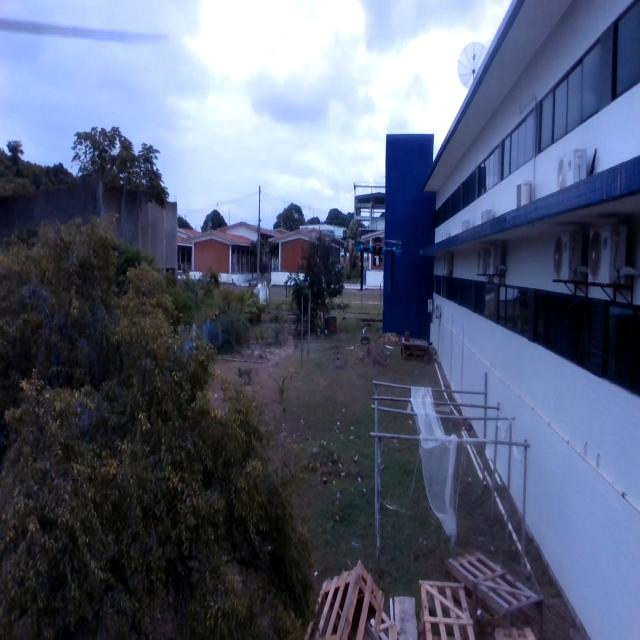-uav-: (358, 227, 402, 299)
